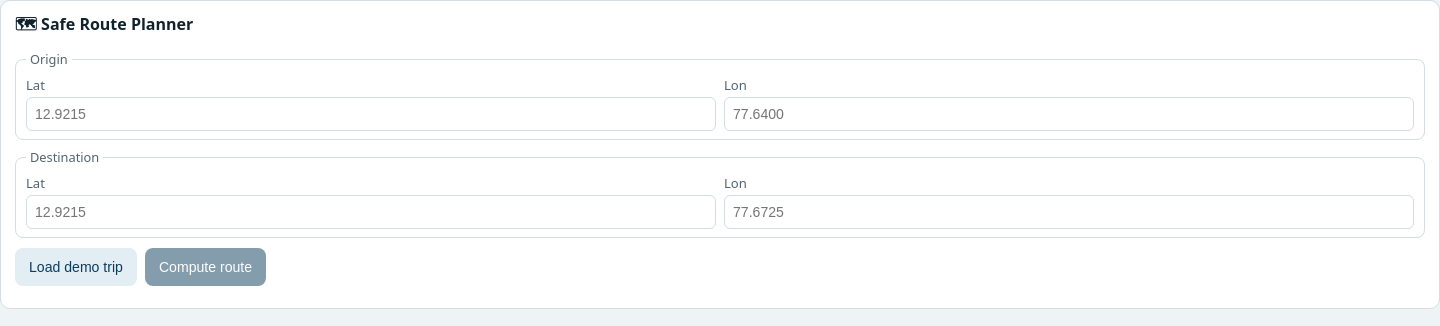
Scenario: RoutePanel › Load demo trip fills the coordinate fields
Click the button with aria-label "Load demo trip coordinates" at point(76, 267), box [15,248,137,286]
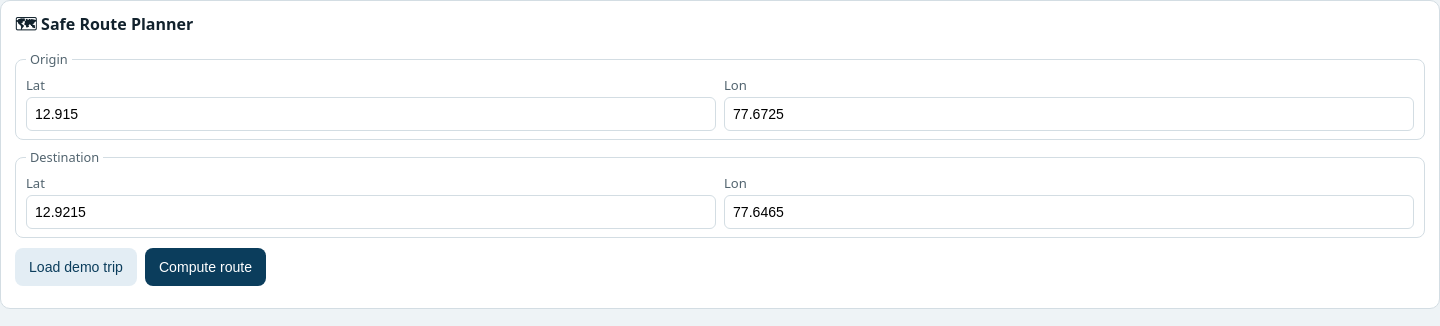
Expected: the number field named "Origin latitude" holds "12.915", [26,97,716,131]
Expected: the number field named "Origin longitude" holds "77.6725", [724,97,1414,131]
Expected: the number field named "Destination latitude" holds "12.9215", [26,195,716,229]
